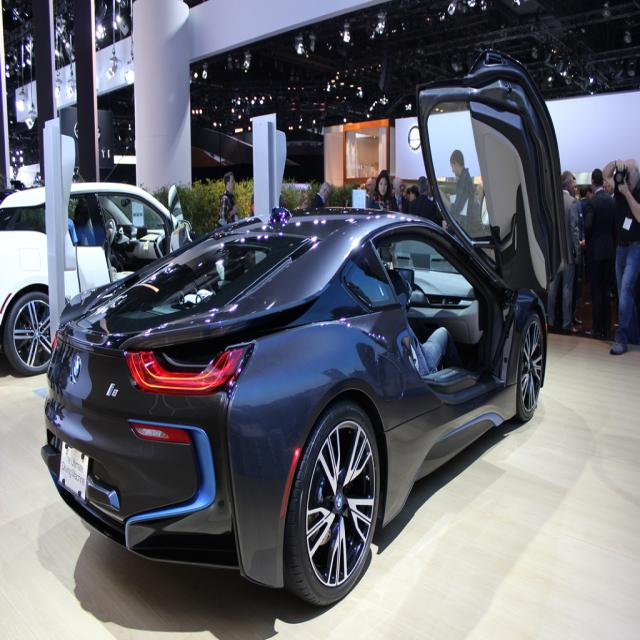car: (36, 37, 573, 614)
